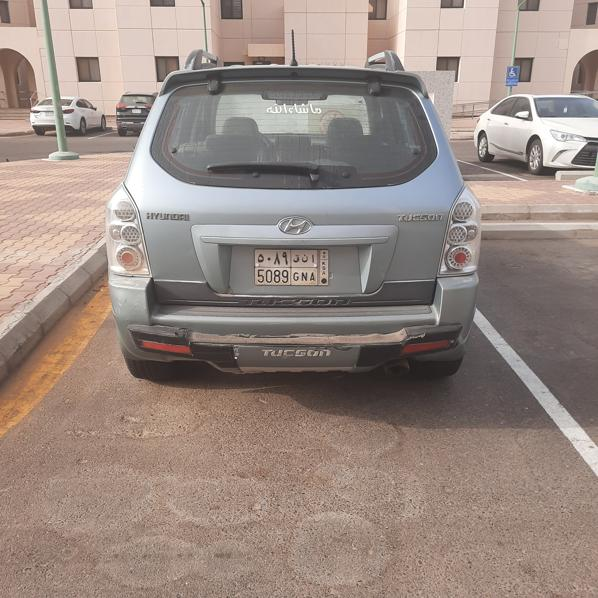numberplate: (253, 247, 331, 285)
